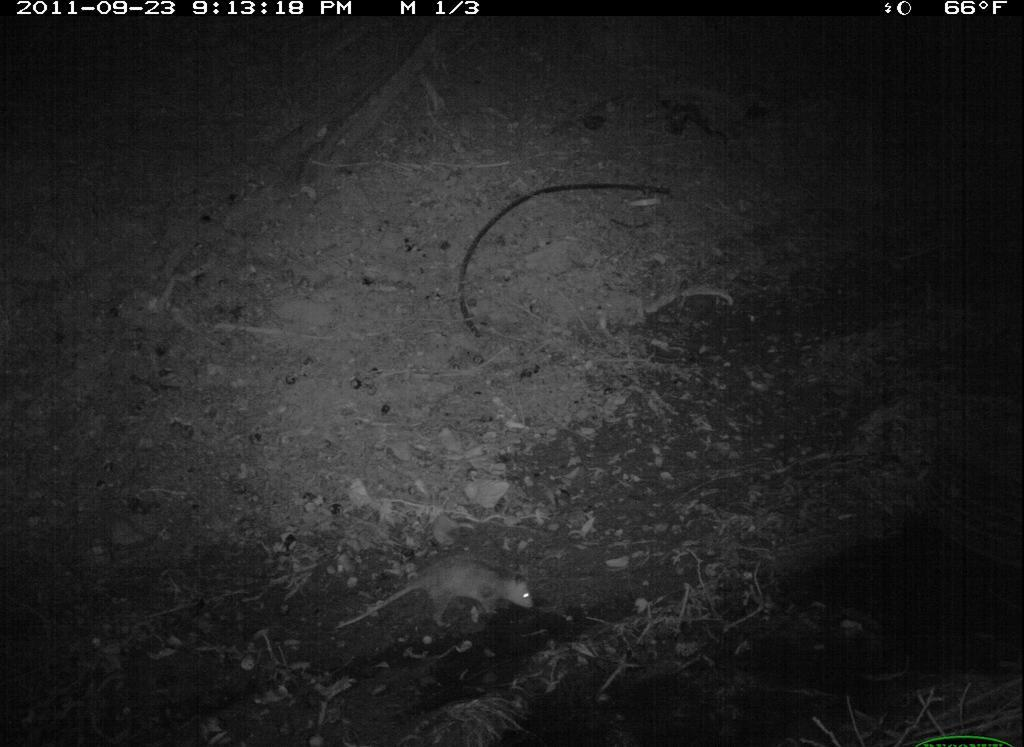opossum: (326, 552, 545, 644)
